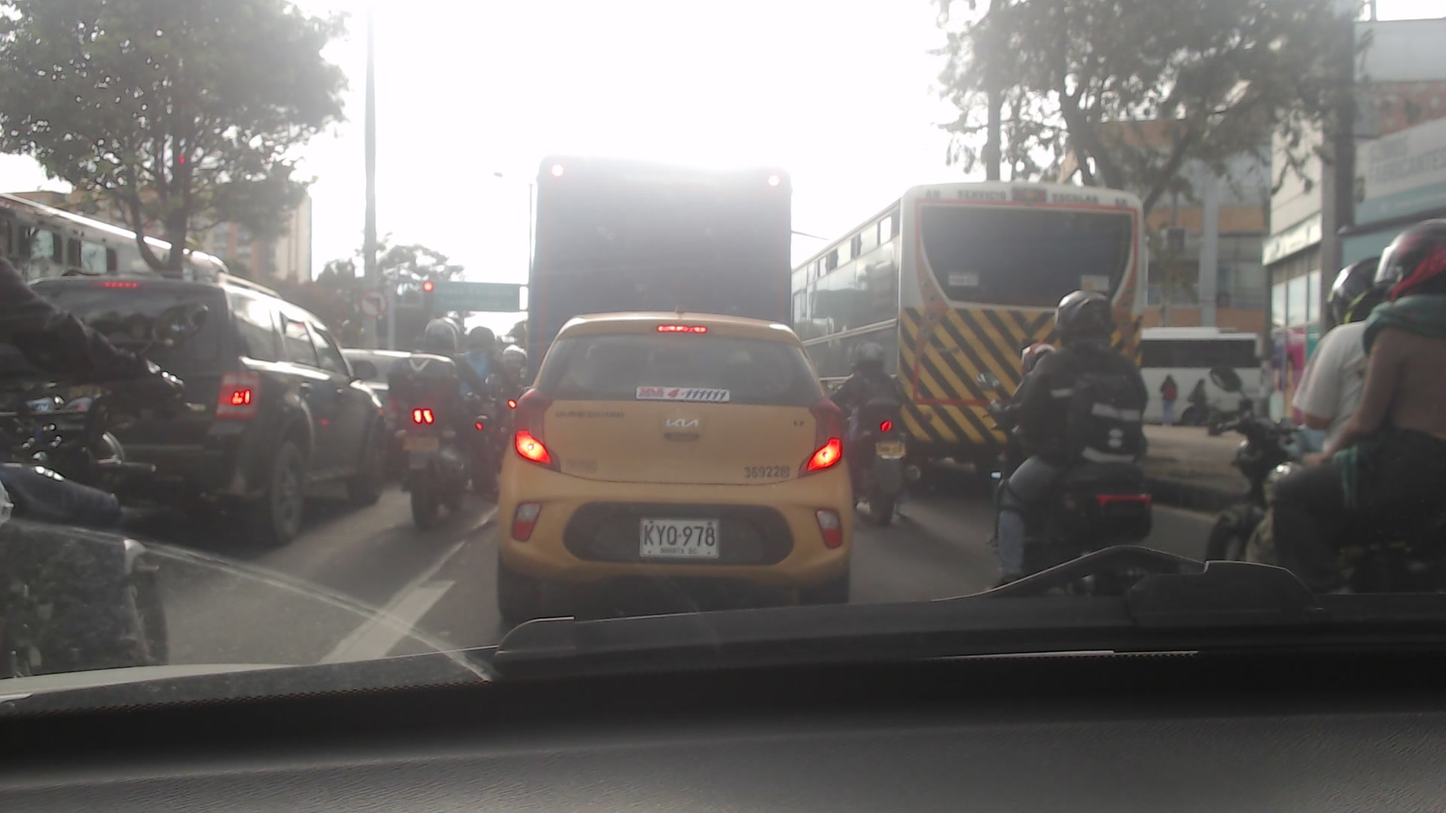bus: (797, 179, 1154, 463)
car: (501, 314, 863, 606), (5, 256, 392, 497)
motorcycle: (1181, 405, 1446, 592), (962, 389, 1169, 600), (827, 401, 923, 530), (389, 396, 477, 517)
person: (983, 286, 1158, 499), (1358, 209, 1445, 511), (1298, 250, 1376, 482), (390, 308, 487, 453), (825, 338, 916, 431), (454, 321, 509, 413)
truck: (527, 153, 797, 347)
